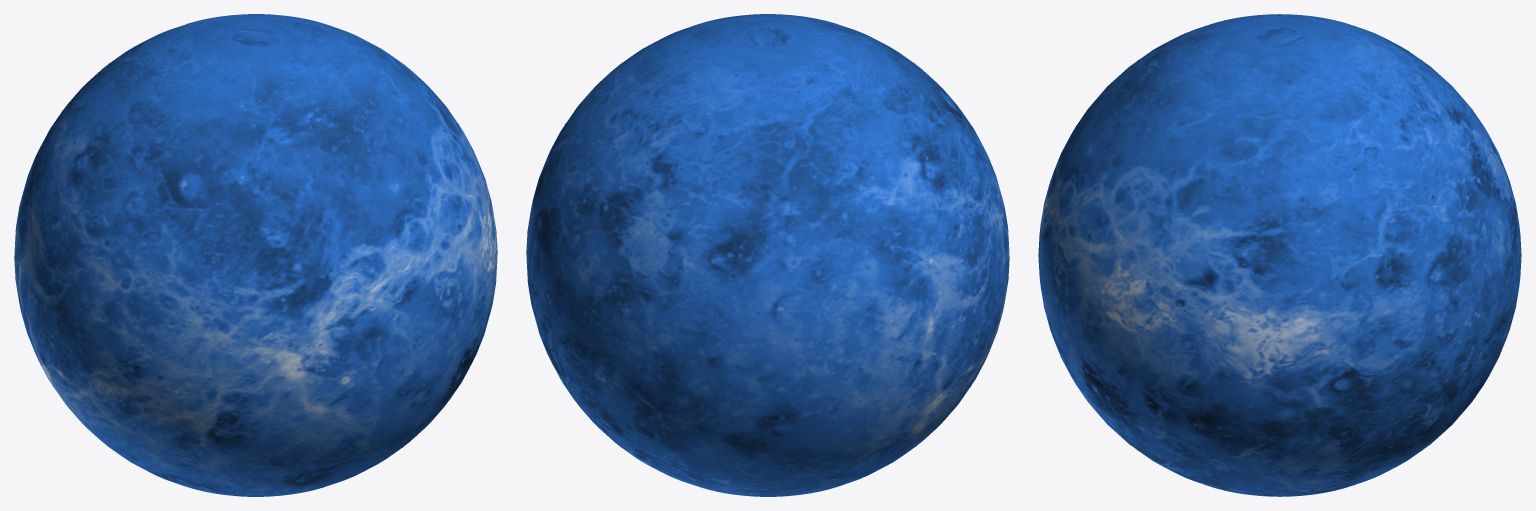
3 renders of one model, left to right at view 1: azimuth 30°, elevation 25°; view 2: azimuth 150°, elevation 25°; view 3: azimuth 270°, elevation 25°, orthographic.
Parts seen in each view (by area): view 1: Venus_1, Venus_Lod; view 2: Venus_1, Venus_Lod; view 3: Venus_1, Venus_Lod.
Boxes of the visible parts, left/top/right/bottom form: Venus_1: left=14, top=14, right=497, bottom=496; Venus_Lod: left=19, top=17, right=496, bottom=494; Venus_1: left=526, top=14, right=1009, bottom=496; Venus_Lod: left=527, top=17, right=1004, bottom=494; Venus_1: left=1038, top=14, right=1521, bottom=496; Venus_Lod: left=1048, top=22, right=1511, bottom=496.
Bounding box in the file's own units: 2 × 2 × 2.
